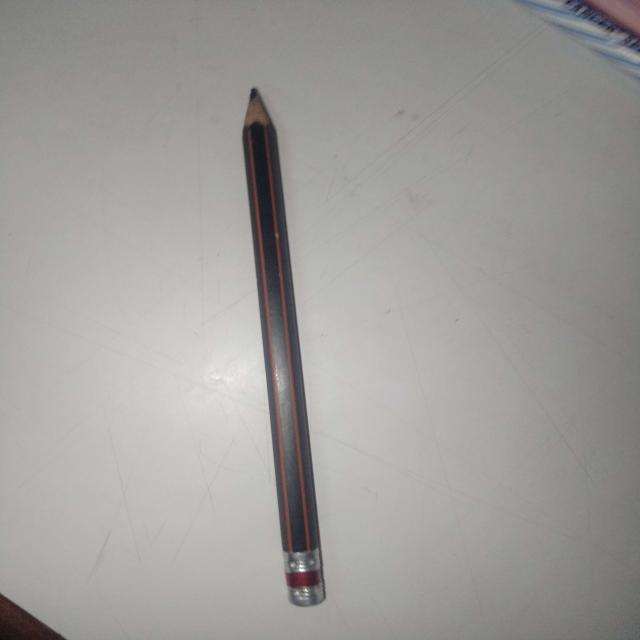pen_pencil: (194, 77, 356, 623)
